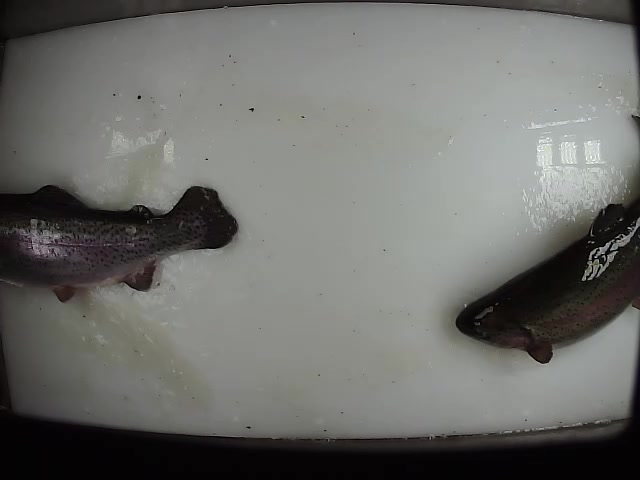fish: (1, 182, 242, 305)
